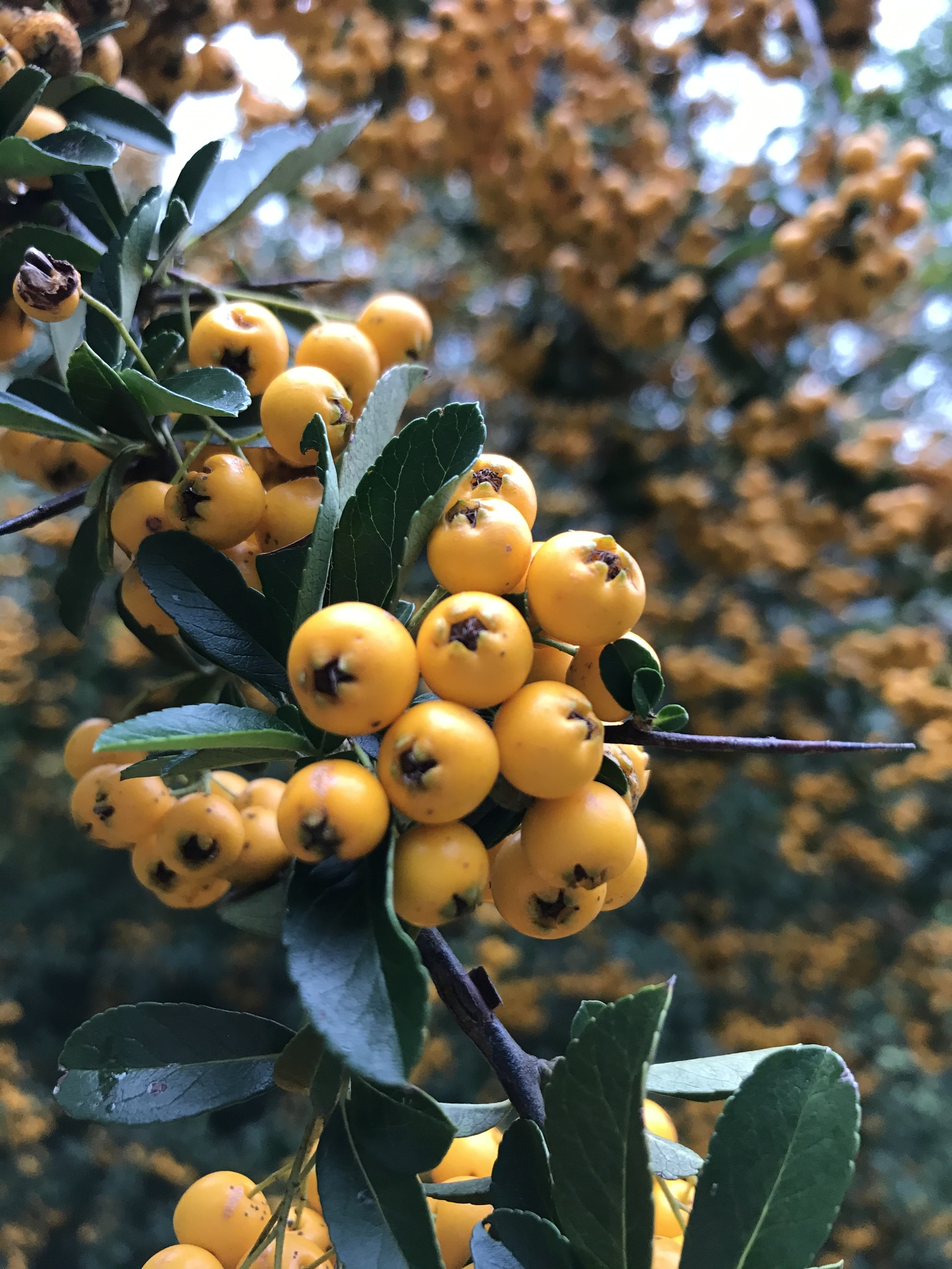Himalayan Firethorn: (23, 224, 687, 1006)
